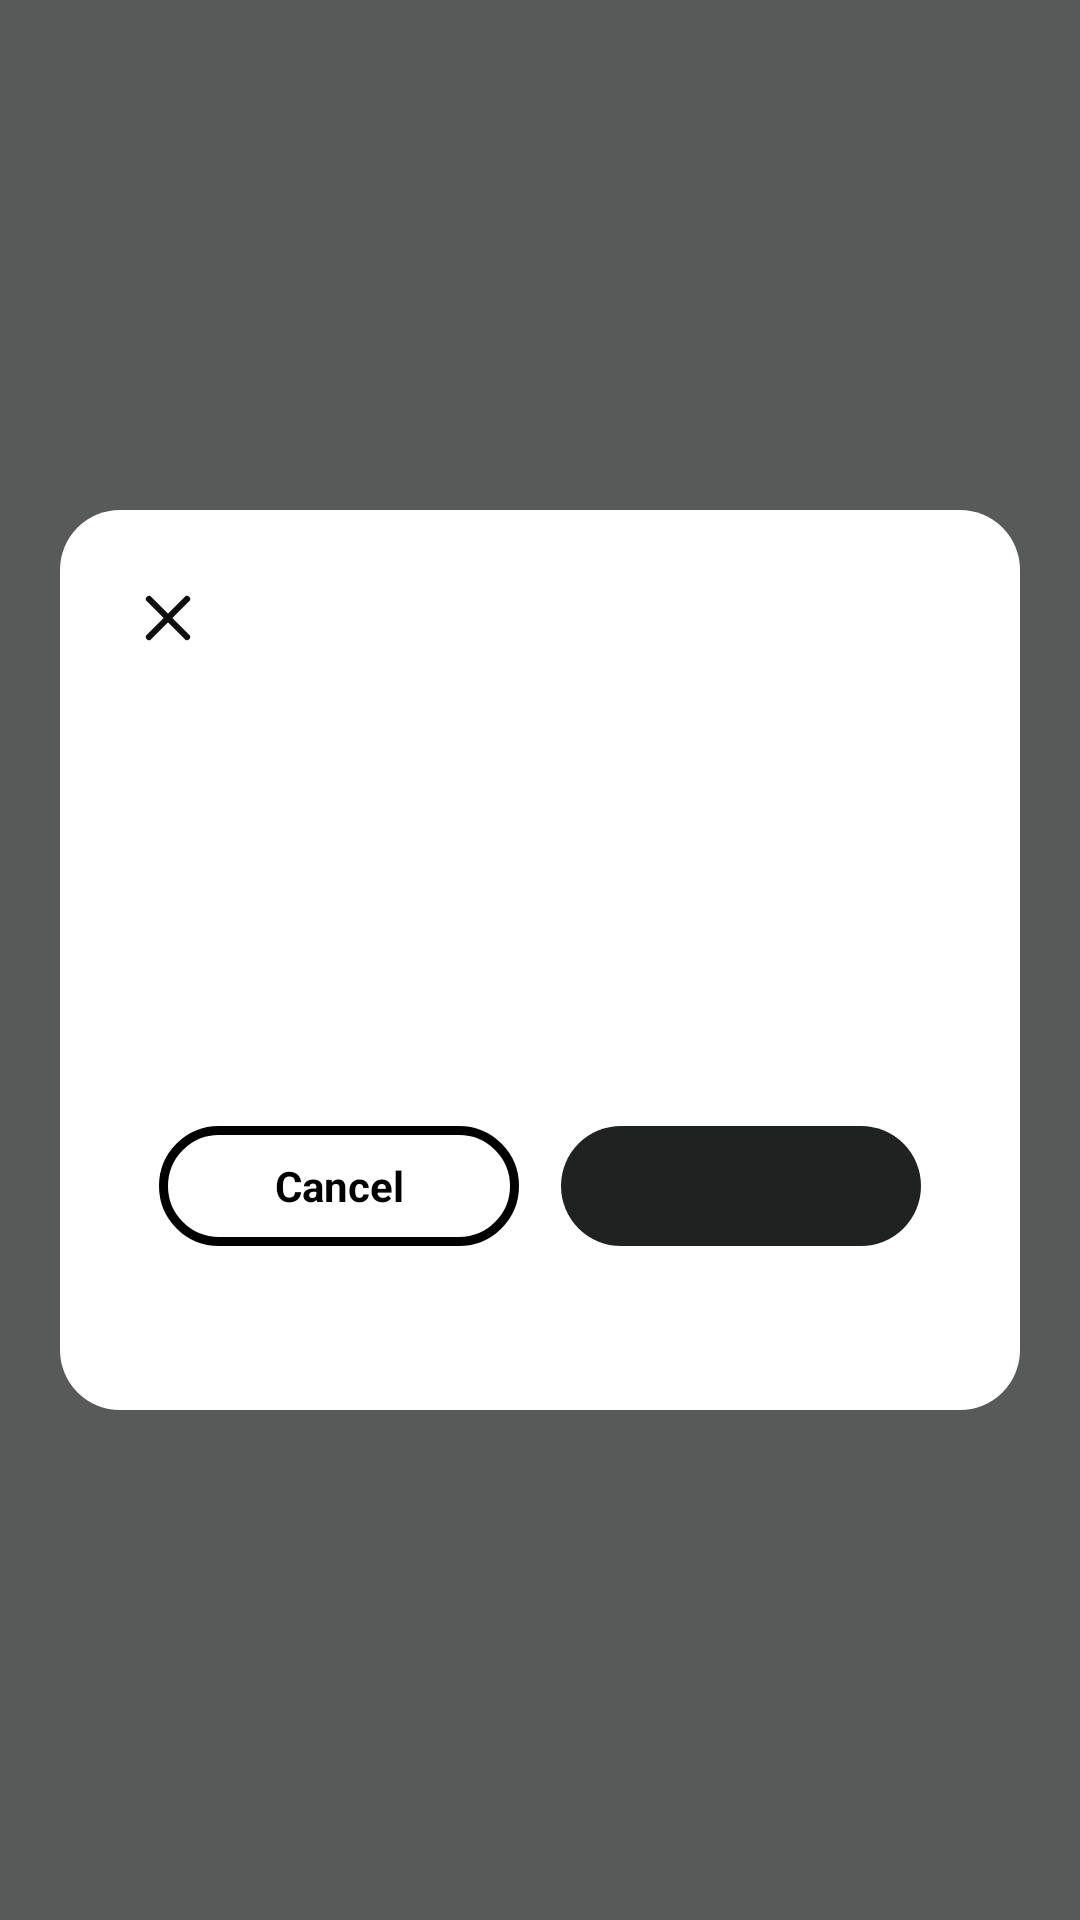

Point at icon controls on the screen. Image size 1080px x 1920px, points as (x,y).
cancel: (168,618)
